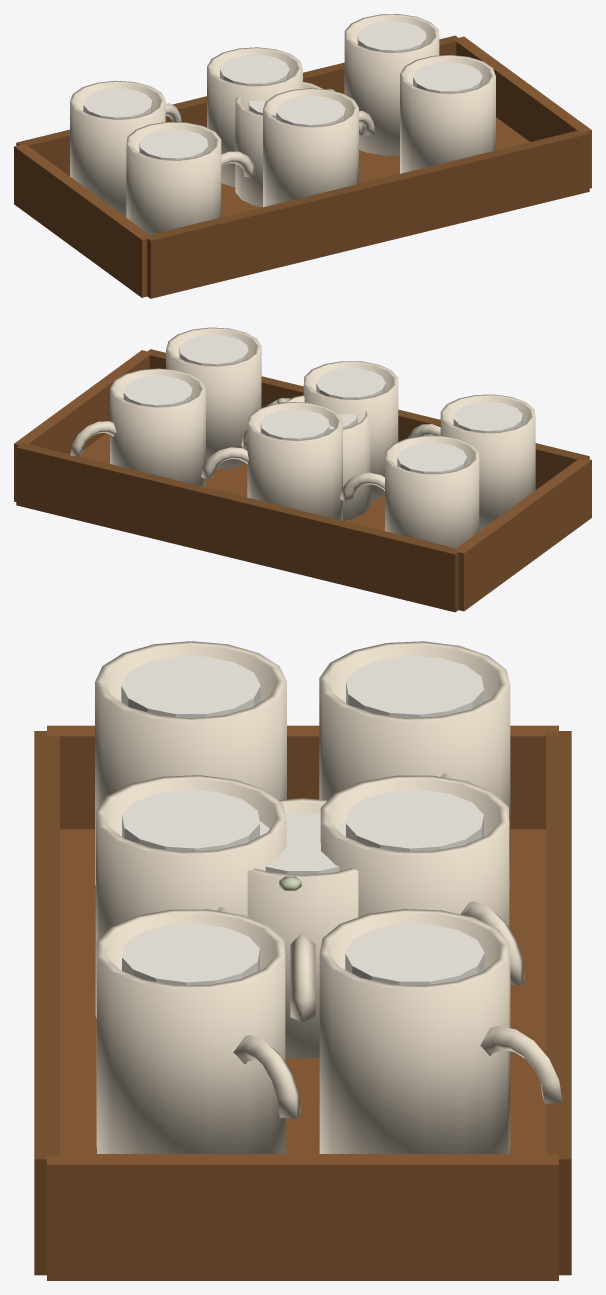
Rendered from Drink_Cocoa.fbx.
3 renders of one model, top to bottom at view 1: azimuth 30°, elevation 25°; view 2: azimuth 150°, elevation 25°; view 3: azimuth 270°, elevation 25°, orthographic. The views are drawn at different scales.
Parts seen in each view (by area): view 1: Drink_Cocoa__Stack, Drink_Cocoa; view 2: Drink_Cocoa__Stack, Drink_Cocoa; view 3: Drink_Cocoa__Stack, Drink_Cocoa.
Boxes of the visible parts, box(x1,y1,x2,y2) form: Drink_Cocoa__Stack: box(14, 14, 591, 298); Drink_Cocoa: box(235, 81, 364, 207); Drink_Cocoa__Stack: box(14, 327, 591, 612); Drink_Cocoa: box(241, 395, 370, 520); Drink_Cocoa__Stack: box(34, 641, 571, 1280); Drink_Cocoa: box(247, 798, 358, 1058).
Size of the model in its own units: 0.325 by 0.078 by 0.168.
